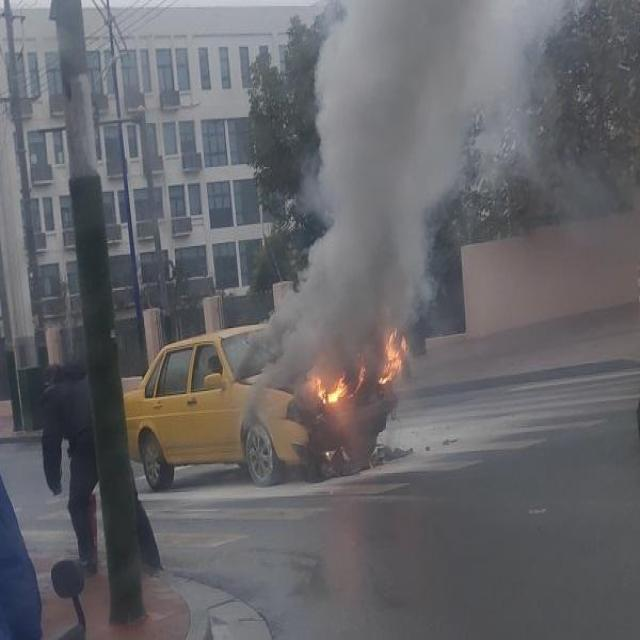Fire: (378, 330, 407, 386), (314, 369, 349, 405)
Smoke: (240, 0, 542, 379)
